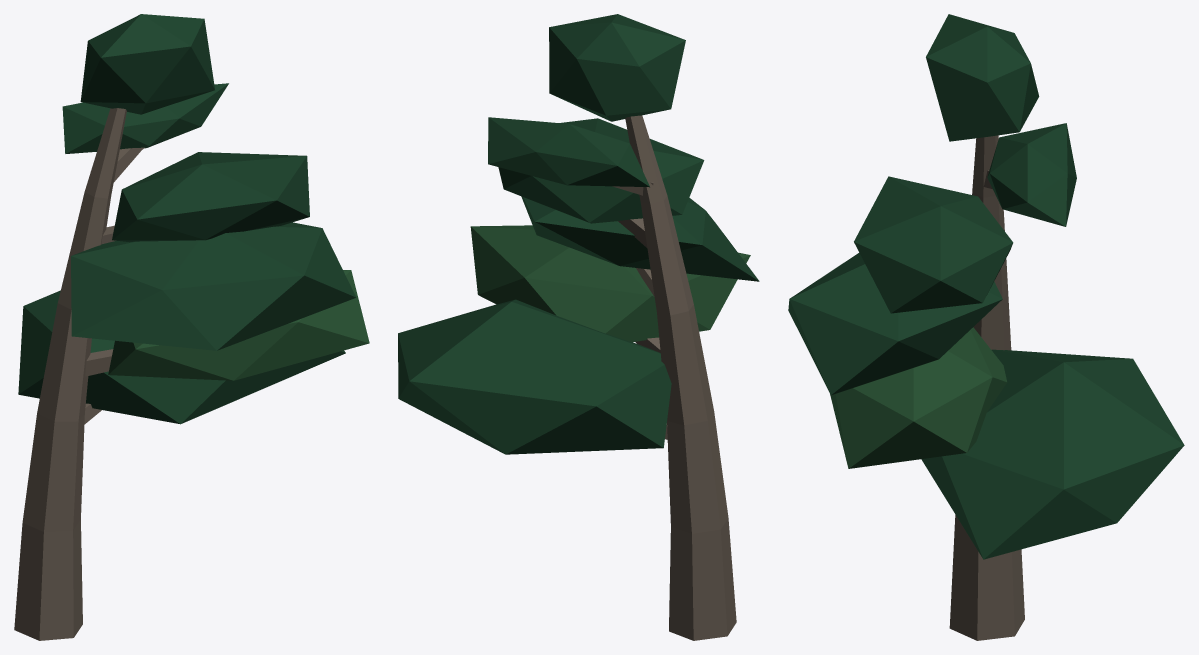
The model's file is Tree_Alpine_B.glb.
3 views of the same model, side by side, from view 1: azimuth 30°, elevation 25°; view 2: azimuth 150°, elevation 25°; view 3: azimuth 270°, elevation 25° (orthographic). The views are drawn at different scales.
Visible parts, largest first — view 1: Tree_Alpine_B; view 2: Tree_Alpine_B; view 3: Tree_Alpine_B.
Part boxes in pixels (box(x1,y1,x2,y2)): Tree_Alpine_B: box(14, 14, 369, 640); Tree_Alpine_B: box(398, 14, 759, 640); Tree_Alpine_B: box(788, 14, 1184, 640).
Size of the model in its own units: 2.11 by 3.67 by 2.03.
